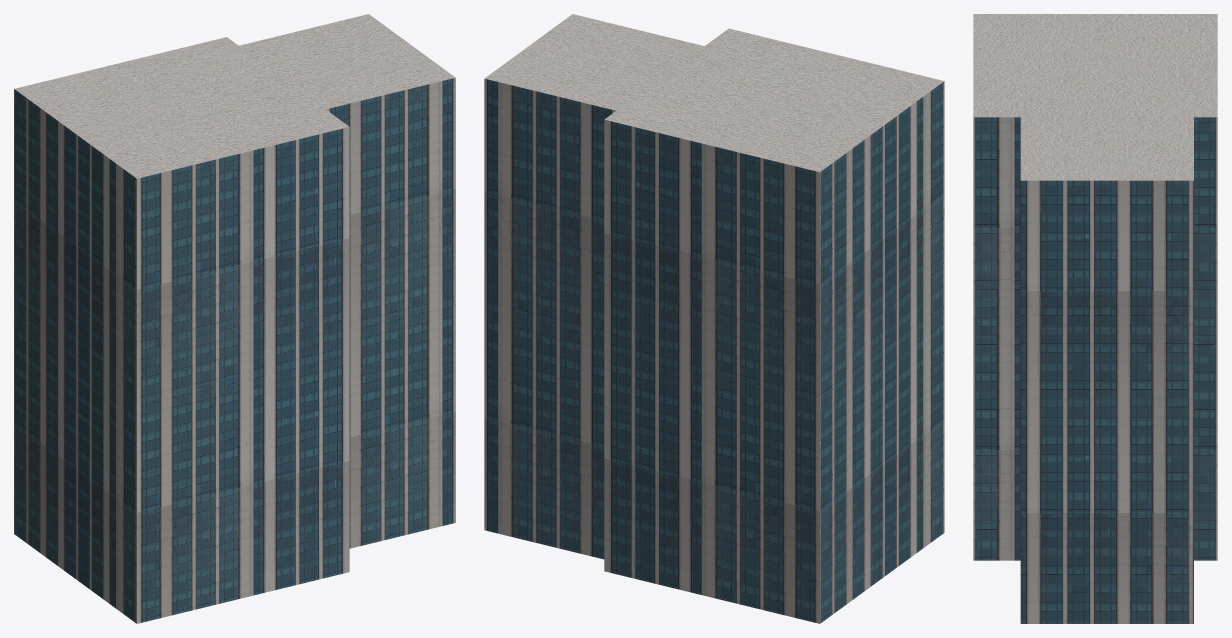
Rendered from building_005_001.glb.
The picture shows the model from 3 angles, left to right: view 1: azimuth 30°, elevation 25°; view 2: azimuth 150°, elevation 25°; view 3: azimuth 270°, elevation 25°; orthographic projection.
Visible parts, largest first — view 1: building_005.001; view 2: building_005.001; view 3: building_005.001.
Part boxes in pixels (x1,y1,x2,y2): building_005.001: (14,14,455,623); building_005.001: (484,14,944,623); building_005.001: (973,14,1217,623).
Size of the model in its own units: 1611 by 2000 by 1000.
2 materials, 2 textured.
